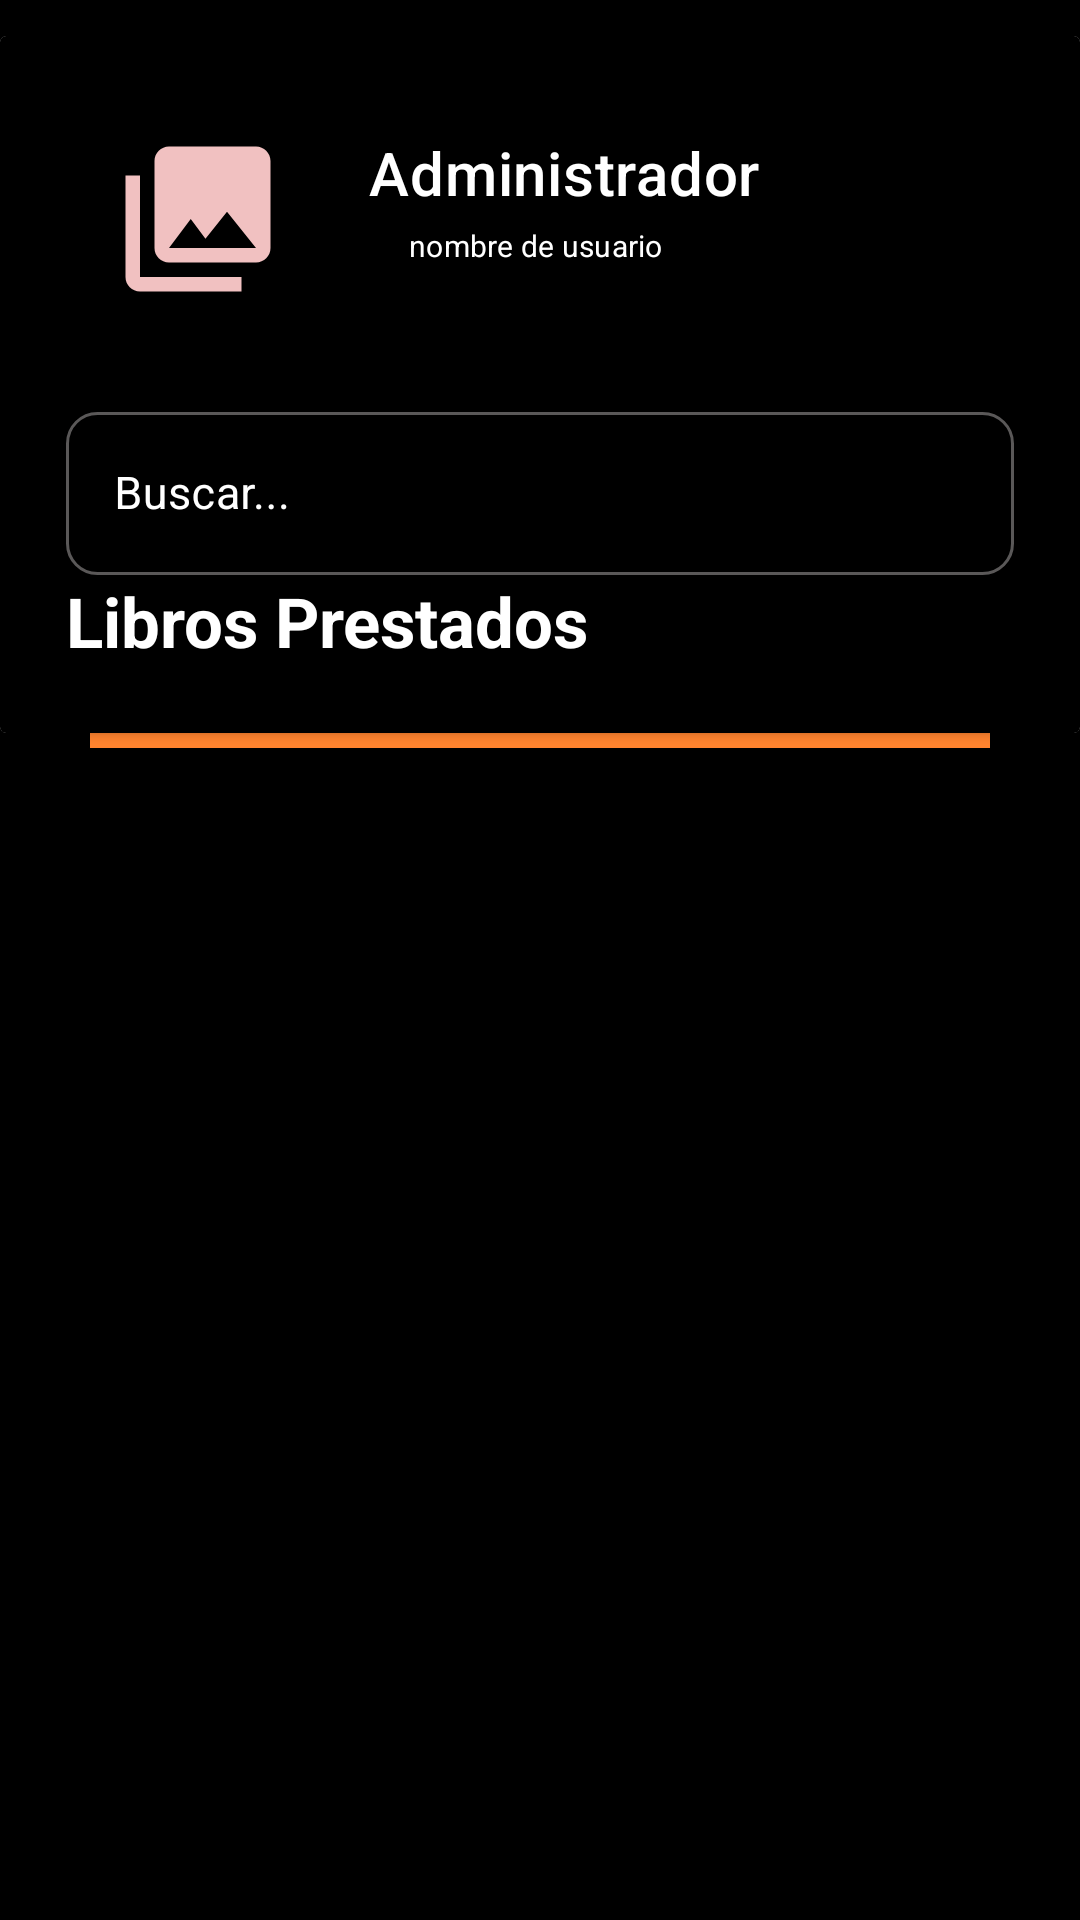

Screen size 1080×1920. Icon name, then its center in pixels as point (x, y):
librosinfoto: point (198, 219)
